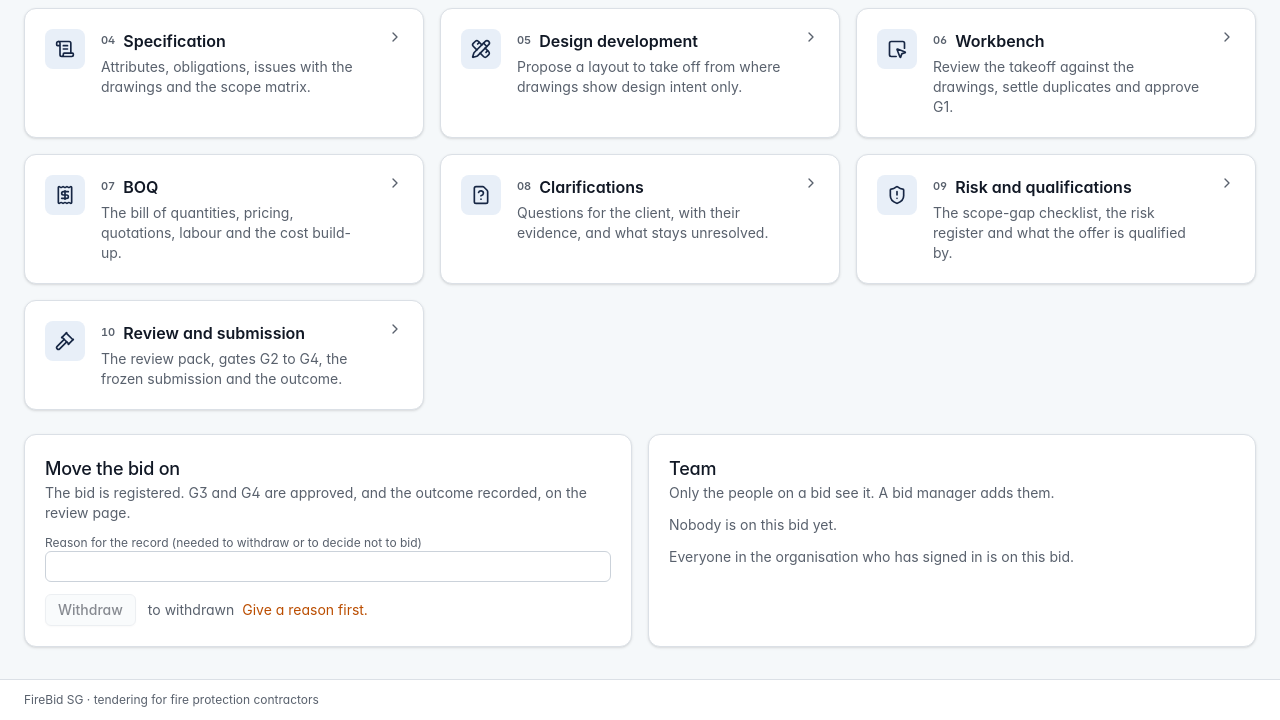
Test case: moving a bid on › withdraws a bid only with a reason, and sends it
(page scrolled)
expect the button "Withdraw" is disabled: met, box x1=45 y1=594 x2=136 y2=626
Type "the client cancelled" into the field named "Reason for the move" at (328,566), box x1=45 y1=550 x2=611 y2=582
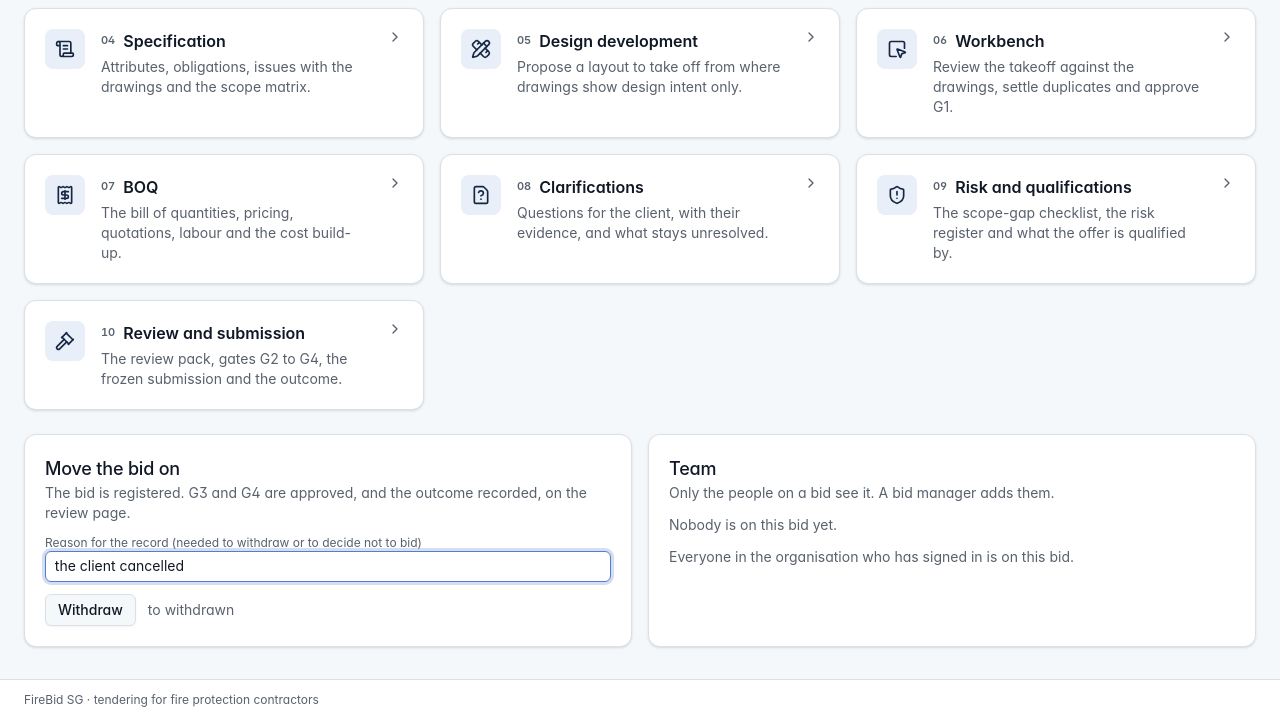
Click the button "Withdraw" at (90,610), box x1=45 y1=594 x2=136 y2=626
(page scrolled)
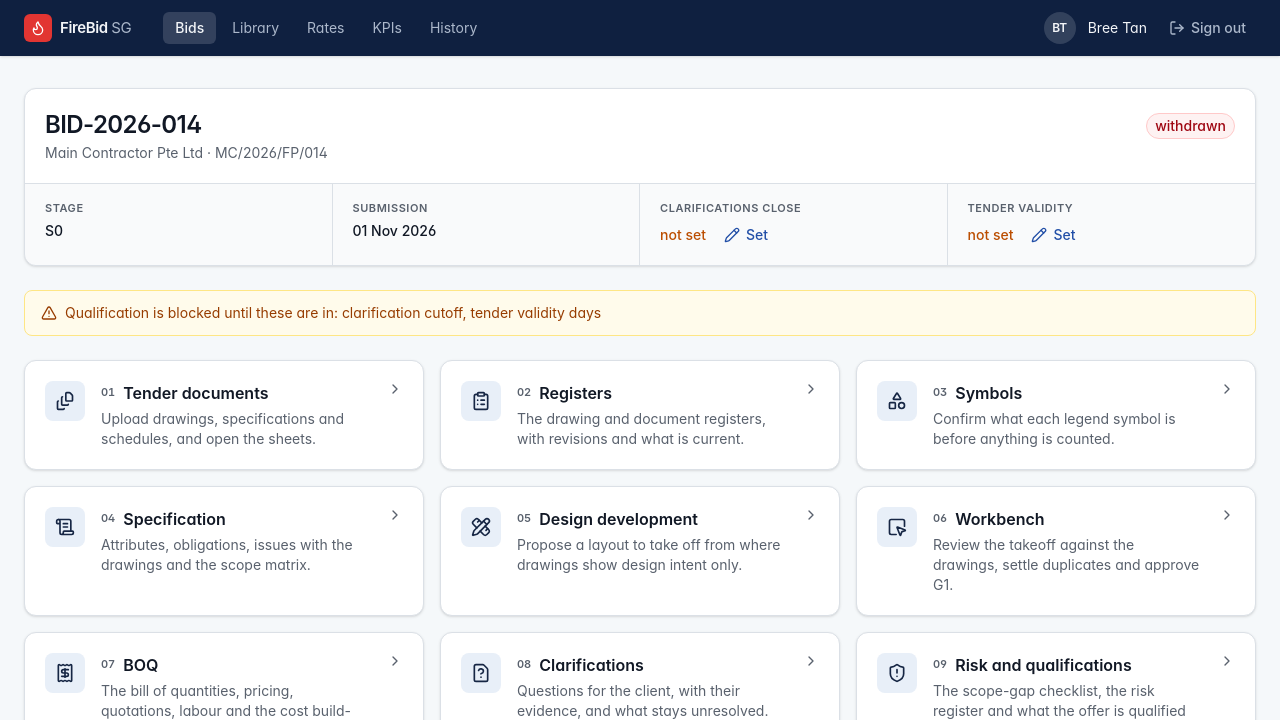
expect the text "withdrawn" is shown: met, box x1=1146 y1=113 x2=1235 y2=139
